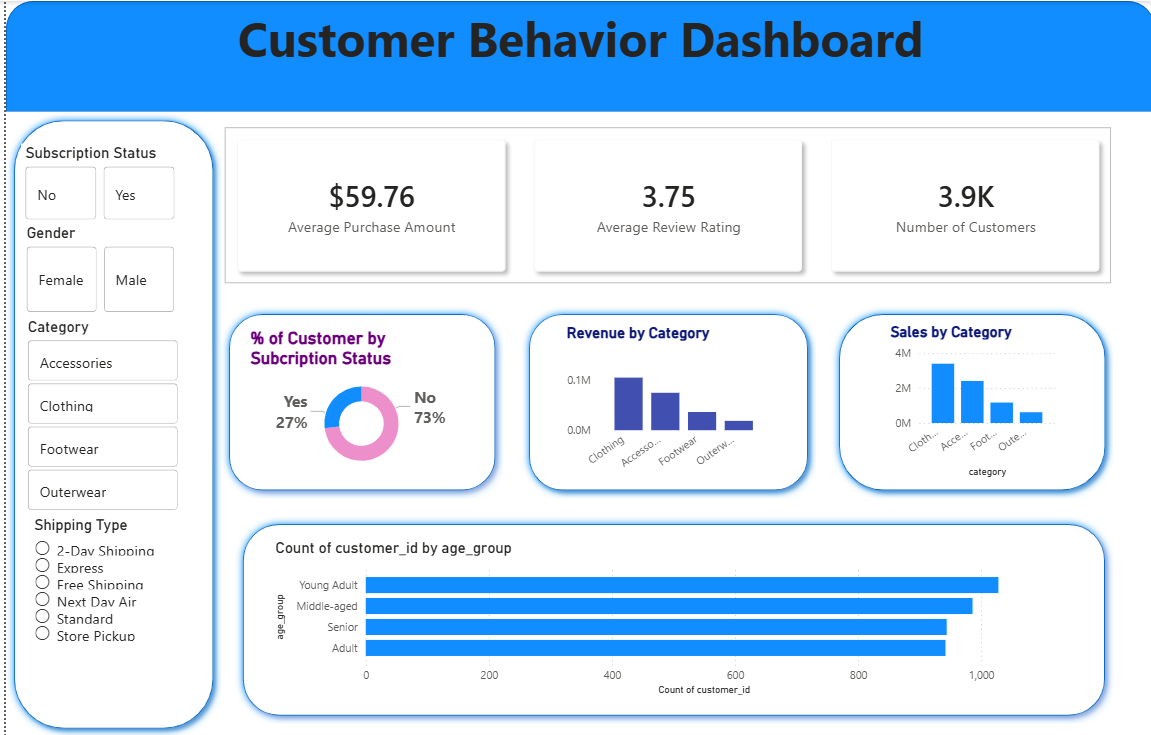

Layout of this report page (visuals, bound fields, positions):
{"tool":"powerbi","page":{"name":"Page 1","canvas":[1280,820],"ordinal":0},"visuals":[{"type":"cardVisual","fields":{"Data":["public customer.Average Purchase Amount","public customer.Average Review Rating","public customer.Number of Customers"]},"box":[227,123.9,1022.2,207.5],"z":0},{"type":"shape","box":[0,0,1280.3,123.5],"z":1000},{"type":"textbox","box":[0,0,1280.3,103.9],"z":2000},{"type":"shape","box":[239.5,339.8,314.7,214.5],"z":3000},{"type":"donutChart","title":"% of Customer by Subcription Status","fields":{"Y":["CountNonNull(public customer.customer_id)"],"Category":["public customer.subscription_status"]},"box":[267.4,364.9,257.6,164.3],"z":4000},{"type":"shape","box":[919.2,339.8,314.7,214.5],"z":5000},{"type":"shape","box":[573.8,339.8,328.7,214.5],"z":6000},{"type":"clusteredColumnChart","title":"Revenue by Category","fields":{"Category":["public customer.category"],"Y":["Sum(public customer.purchase_amount)"]},"box":[619.7,359.3,235.4,174.1],"z":7000},{"type":"clusteredColumnChart","title":"Sales by Category","fields":{"Category":["public customer.category"],"Y":["Sum(public customer.customer_id)"]},"box":[980.4,357.9,193.6,178.3],"z":8000},{"type":"shape","box":[0,124.3,240,695.7],"z":9000},{"type":"advancedSlicerVisual","fields":{"Values":["public customer.subscription_status"]},"box":[17.1,158.6,177.1,90],"z":10000},{"type":"advancedSlicerVisual","fields":{"Values":["public customer.gender"]},"box":[18.6,248.6,175.7,104.3],"z":11000},{"type":"advancedSlicerVisual","fields":{"Values":["public customer.category"]},"box":[20,352.9,177.1,221.4],"z":12000},{"type":"listSlicer","fields":{"Values":["public customer.shipping_type"]},"box":[27.1,574.3,157.1,204.3],"z":13000},{"type":"shape","box":[254.3,574.3,978.6,231.4],"z":14000},{"type":"clusteredBarChart","fields":{"Y":["CountNonNull(public customer.customer_id)"],"Category":["public customer.age_group"]},"box":[295.7,598.6,880,180],"z":15000}]}

Visuals, with their boxes in screenshot pixels (x1, y1, x2, y2), scaled from the page's 1280x820 canvas onto the 1151x735 screenshot:
cardVisual - public customer.Average Purchase Amount x public customer.Average Review Rating: [x1=204, y1=111, x2=1123, y2=297]
shape: [x1=0, y1=0, x2=1150, y2=111]
textbox: [x1=0, y1=0, x2=1150, y2=93]
shape: [x1=215, y1=305, x2=498, y2=497]
"% of Customer by Subcription Status" donutChart: [x1=240, y1=327, x2=472, y2=474]
shape: [x1=827, y1=305, x2=1110, y2=497]
shape: [x1=516, y1=305, x2=812, y2=497]
"Revenue by Category" clusteredColumnChart: [x1=557, y1=322, x2=769, y2=478]
"Sales by Category" clusteredColumnChart: [x1=882, y1=321, x2=1056, y2=481]
shape: [x1=0, y1=111, x2=216, y2=734]
advancedSlicerVisual - public customer.subscription_status: [x1=15, y1=142, x2=175, y2=223]
advancedSlicerVisual - public customer.gender: [x1=17, y1=223, x2=175, y2=316]
advancedSlicerVisual - public customer.category: [x1=18, y1=316, x2=177, y2=515]
listSlicer - public customer.shipping_type: [x1=24, y1=515, x2=166, y2=698]
shape: [x1=229, y1=515, x2=1109, y2=722]
clusteredBarChart - CountNonNull(public customer.customer_id) x public customer.age_group: [x1=266, y1=537, x2=1057, y2=698]
